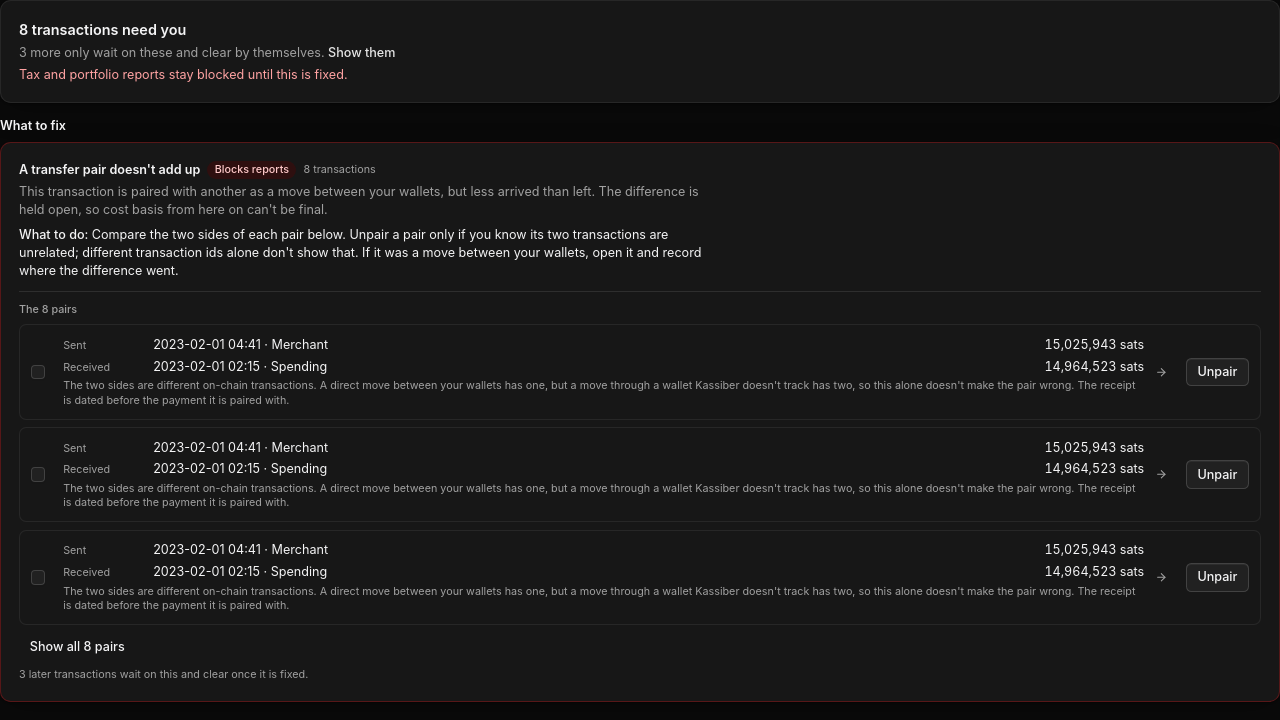
unpairing pairs that leave a suspense › unpairs the pairs the owner ticked in one previewed step
The width and height of the screenshot is (1280, 720).
What coordinates should you click on to do the following:
click the 1st checkbox named "Pick the pair from Merchant to Spending"
I would click on:
 (38, 372)
Its box is [31, 365, 45, 379].
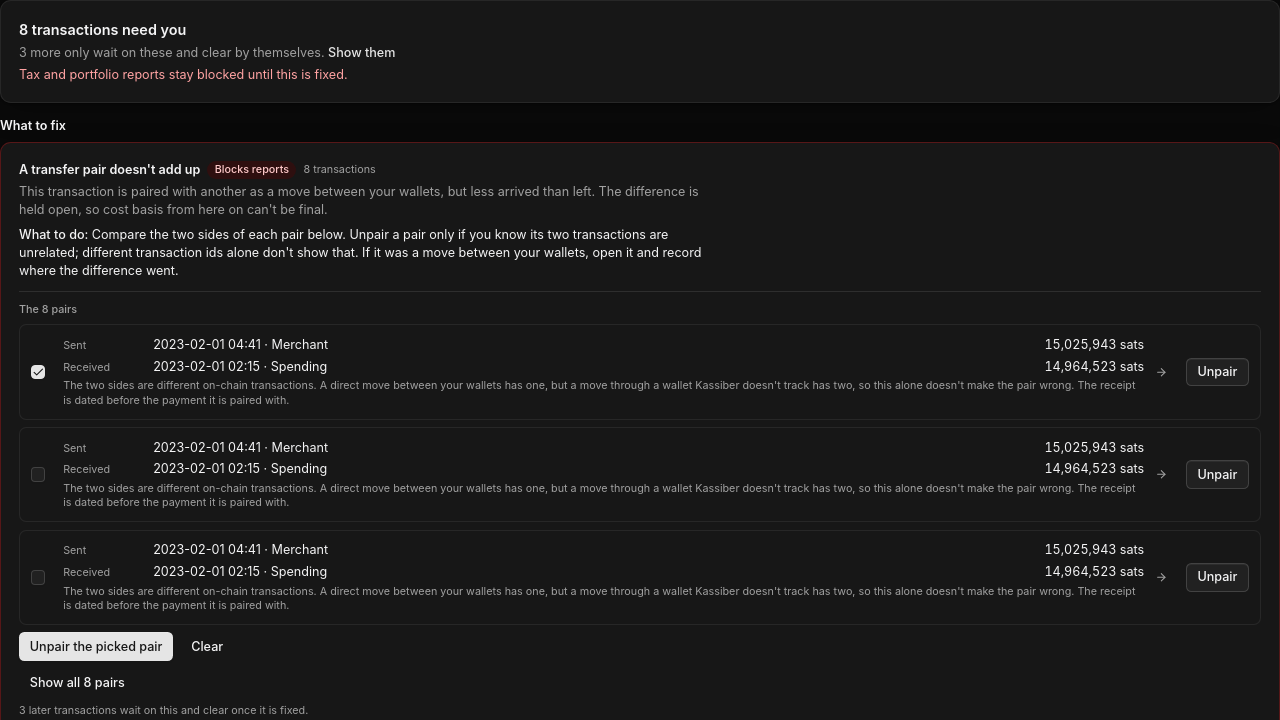
What coordinates should you click on to do the following:
click the 3rd checkbox named "Pick the pair from Merchant to Spending"
I would click on:
 (38, 577)
Its box is [31, 570, 45, 585].
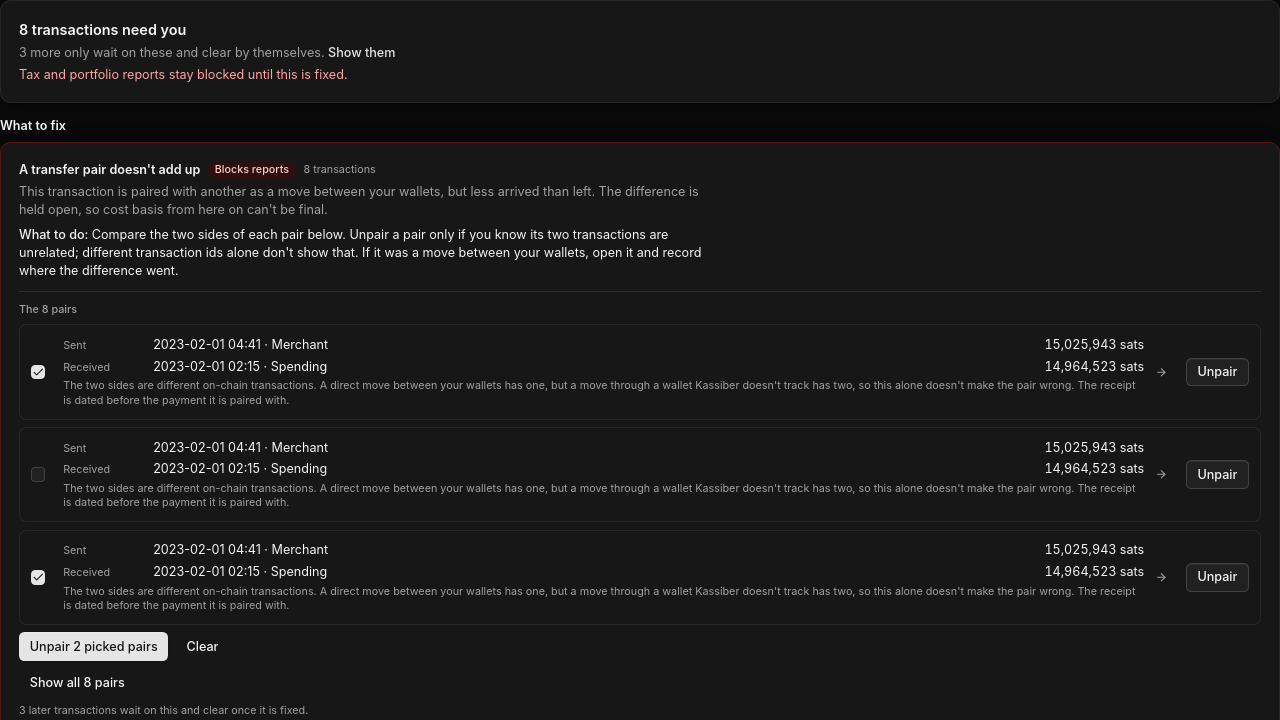
What coordinates should you click on to do the following:
click the button "Unpair 2 picked pairs"
I would click on:
 (94, 647)
Its box is [19, 632, 168, 661].
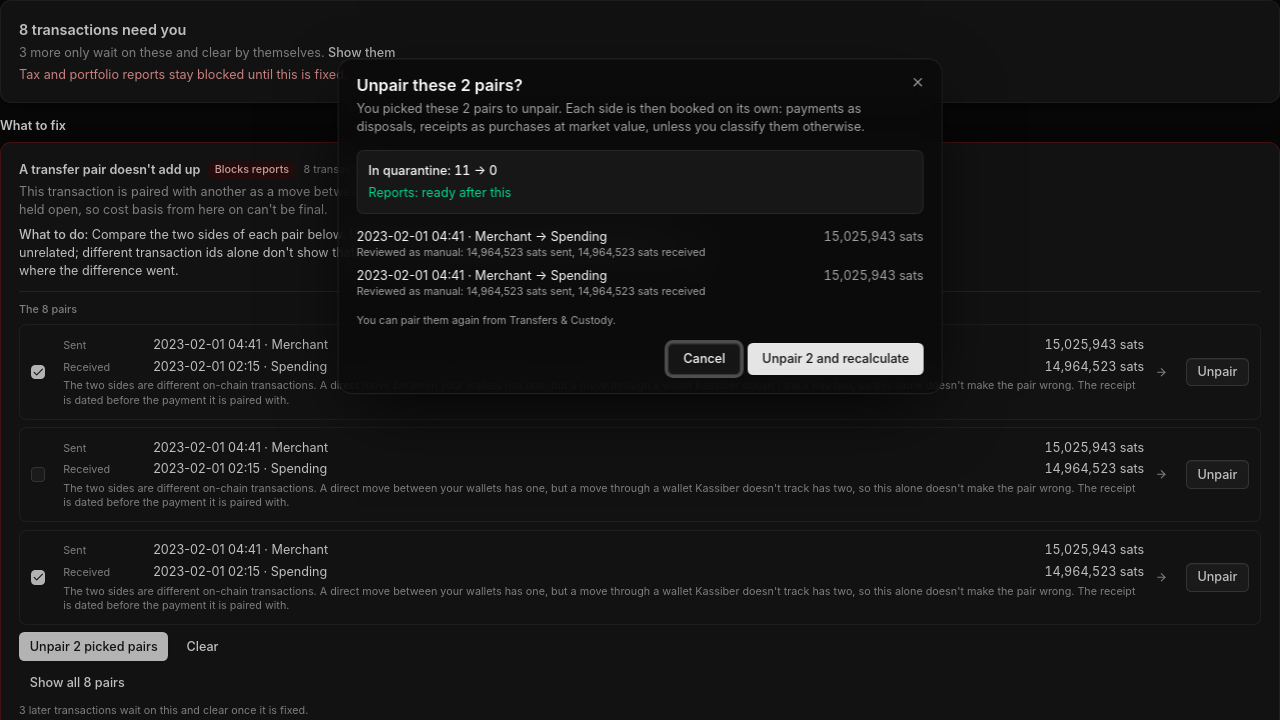
Check: the dialog shows "Unpair these 2 pairs?", box [357, 75, 523, 95]
Check: the dialog shows "You picked these 2 pairs", box [357, 101, 865, 134]
Check: the text "In quarantine: 11 → 0" is shown, box [368, 163, 497, 178]
What coordinates should you click on to do the following:
click the button "Unpair 2 and recalculate"
I would click on:
 (836, 359)
Its box is [748, 343, 923, 375].
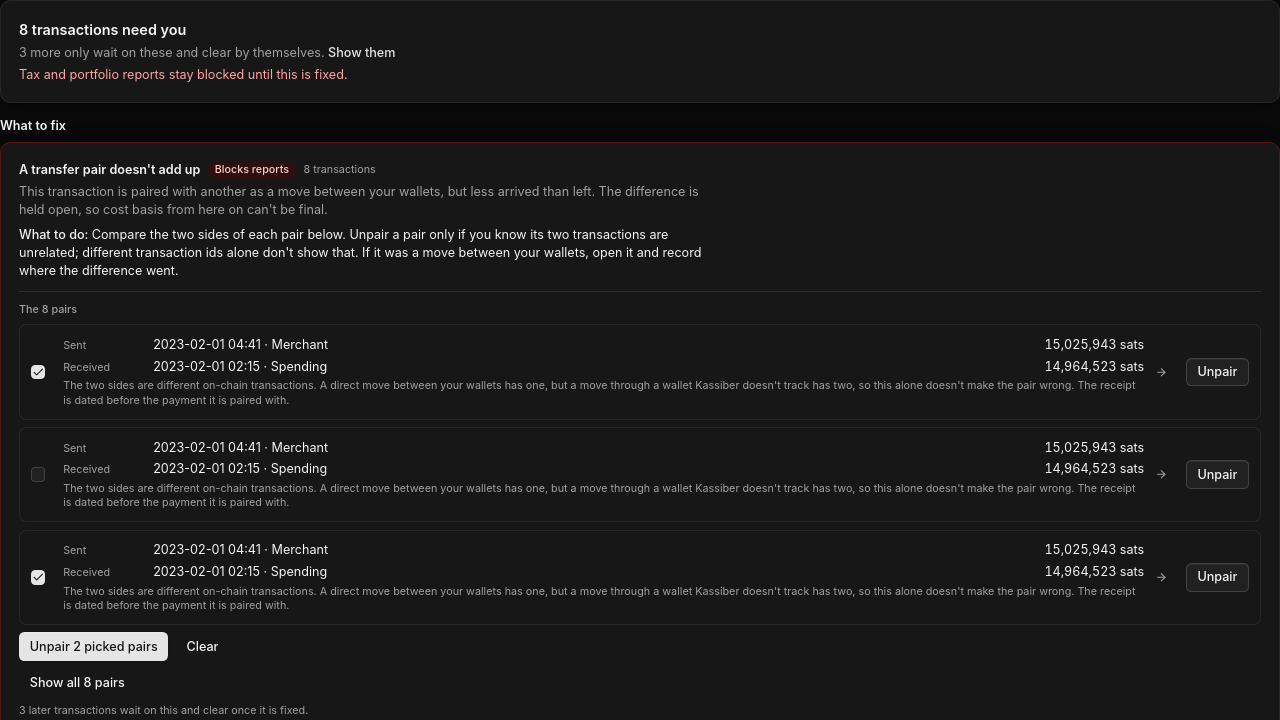
Check: the dialog is gone
